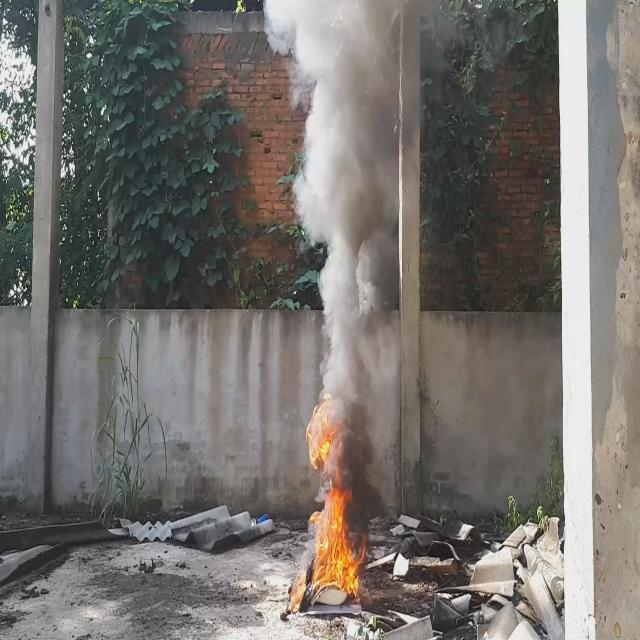Fire: (305, 394, 363, 594)
Smoke: (262, 0, 446, 550)
